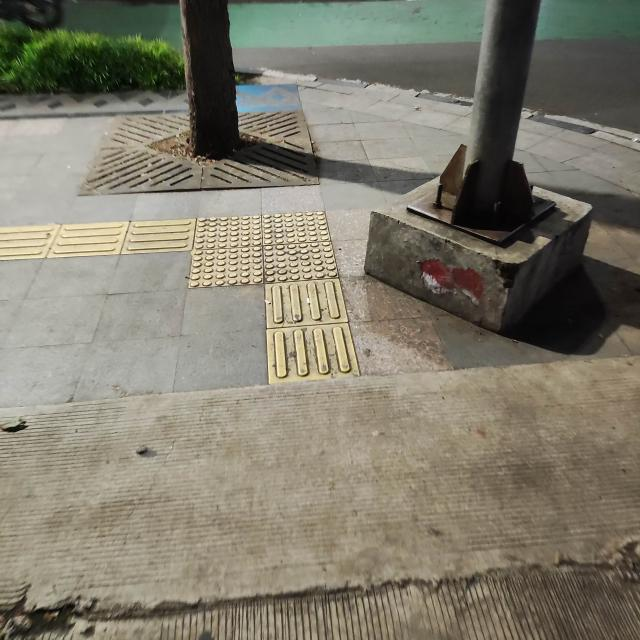kiri: (93, 193, 366, 313)
